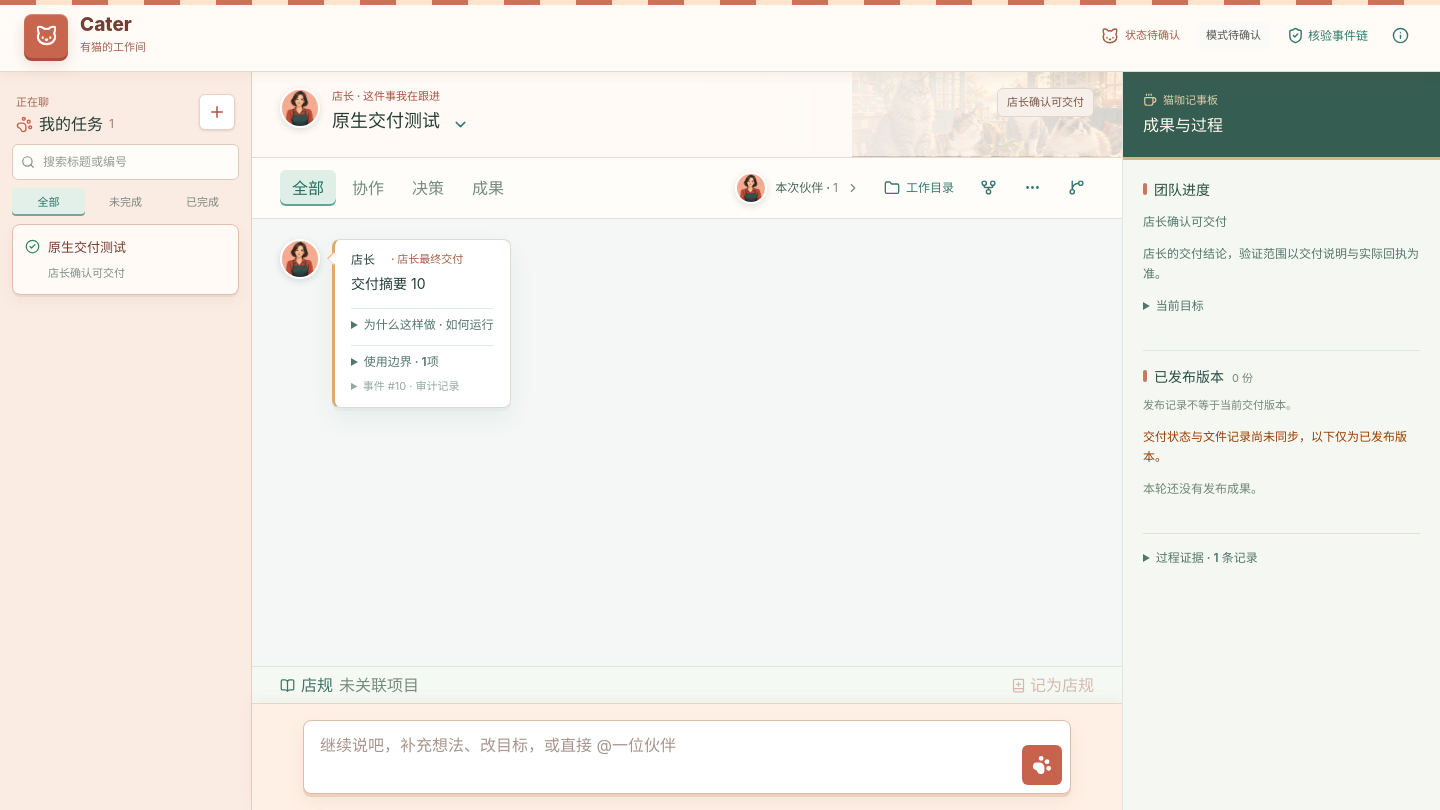
采集完成与正文截断分别显示，伙伴和工具使用中文身份
Expected: the element "团队进度" is shown, [1143,180,1420,330]
Click the heading "为什么这样做 · 如何运行" at (422, 325), box [351,317,494,333]
(page scrolled)
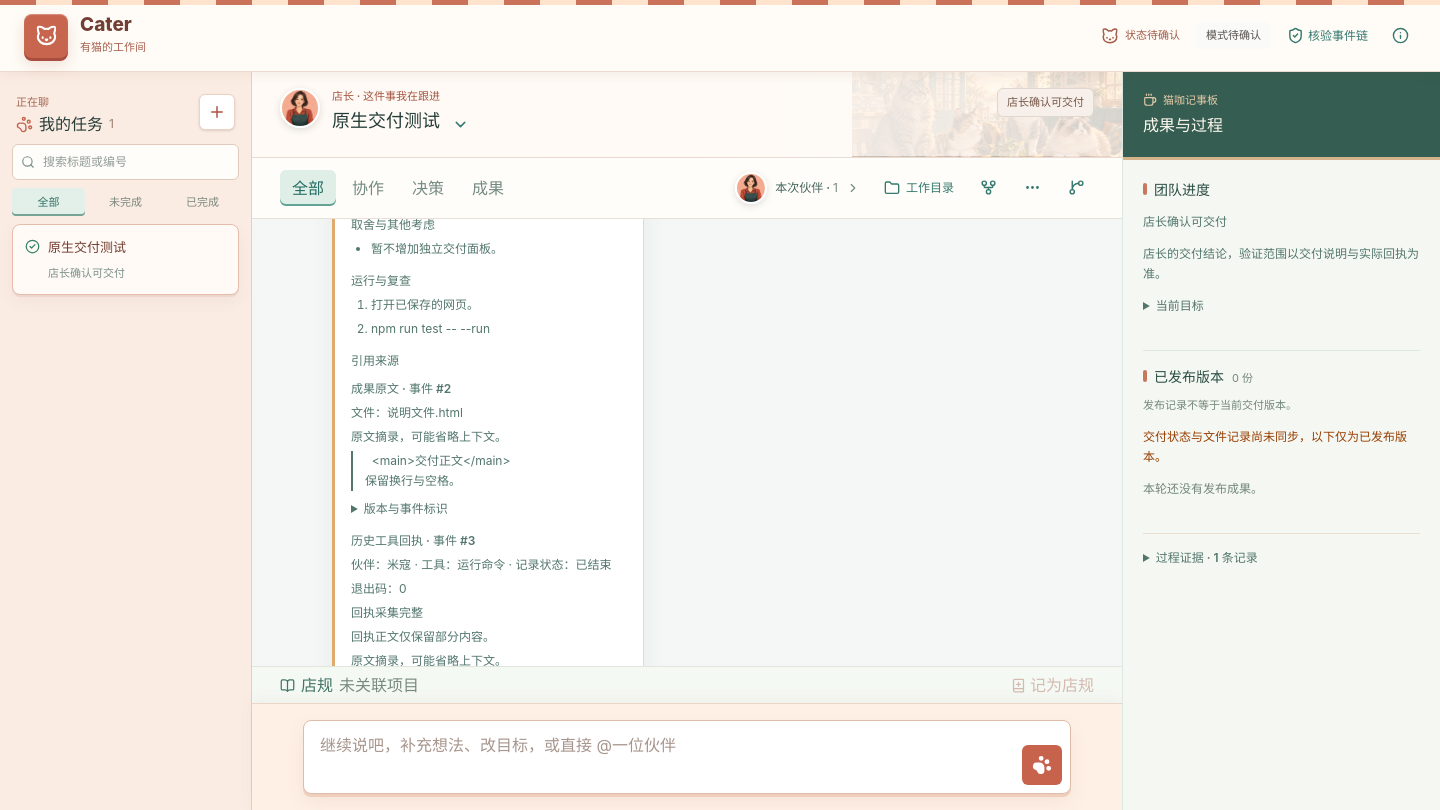
Now the text "回执采集完整" is shown, box [351,605,423,620]
Now the text "回执正文仅保留部分内容。" is shown, box [351,629,495,644]
Now the text "为什么这样做 · 如何运行" shows "伙伴：米寇 · 工具：运行命令", box [351,557,611,572]
